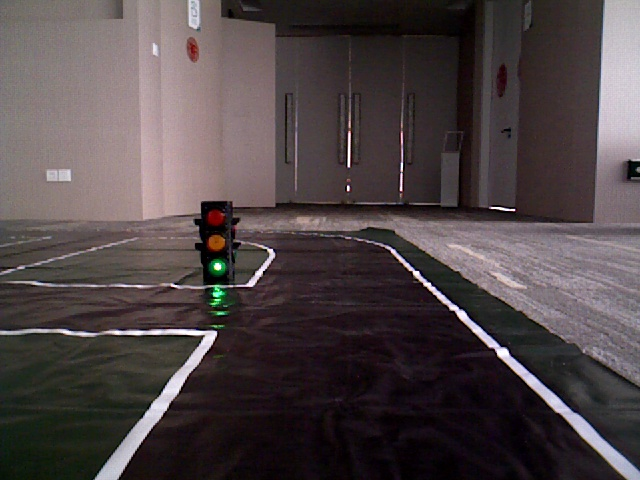green: (202, 204, 233, 281)
